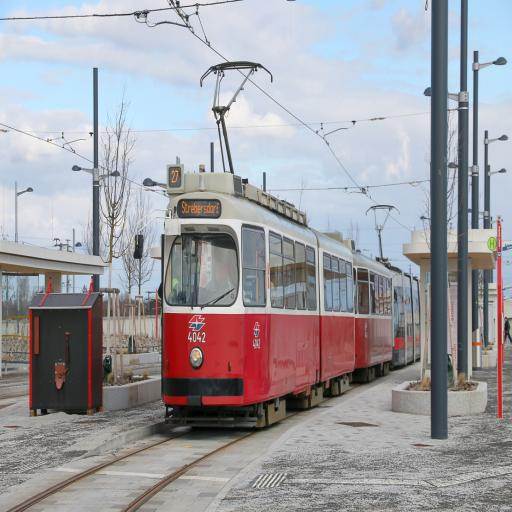E2-Tram: (159, 166, 395, 410)
